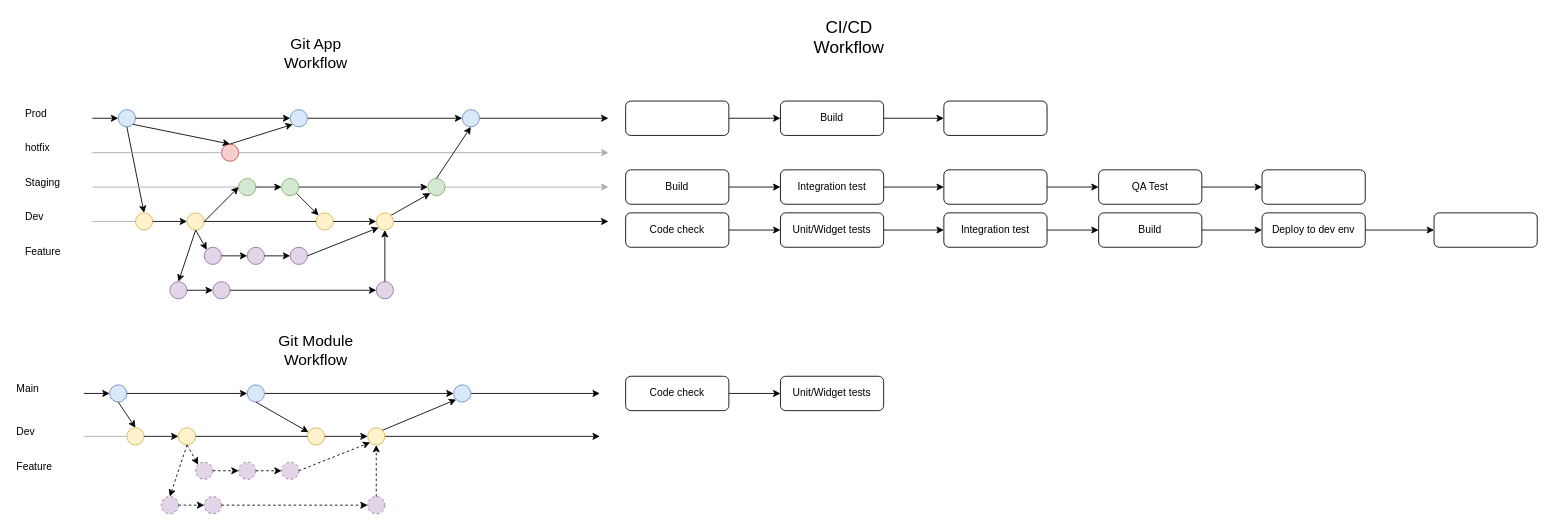
The diagram is 1552 pixels wide and 529 high, and some of its shapes have lost their labels. Here are the shapes that lost their labels. From the top down, the centre of each, then its label:
At point 677,117: "Deploy tags".
At point 995,117: "Deploy to prod env".
At point 995,186: "Deploy to stag env".
At point 1313,186: "Merge to main".
At point 1485,229: "Tests".
